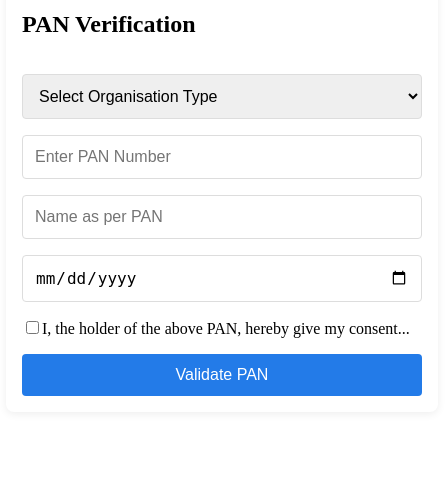
it: FormStep2 › shows error for missing PAN holder name
Select "Proprietorship" in the dropdown named "Select Organisation Type": coordinates (222, 96) [22, 74, 422, 119]
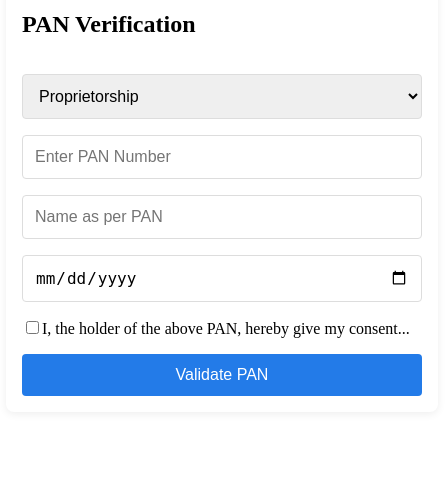
In the field with placeholder "Enter PAN Number": coordinates (222, 157) [22, 135, 422, 179], type "ABCDE1234F"
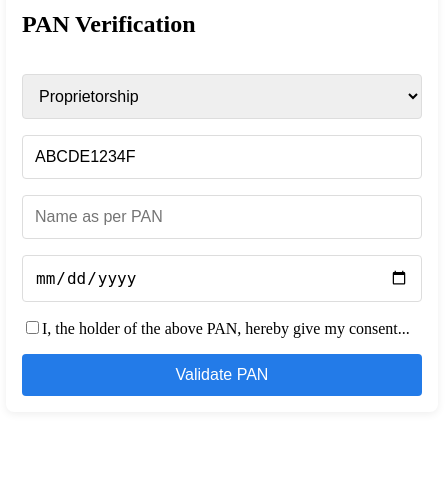
Click the button "Validate PAN": coordinates (222, 375) [22, 354, 422, 396]
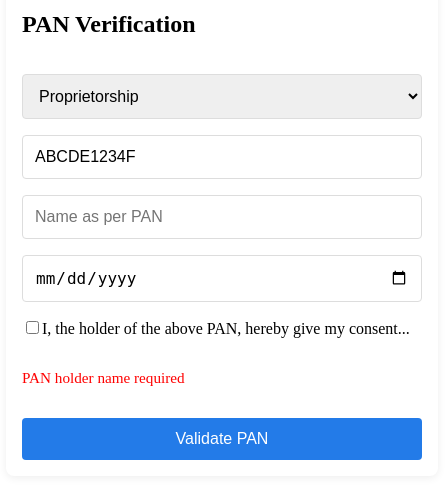
Expected: the text "PAN holder name required" is shown, [22, 369, 185, 386]
